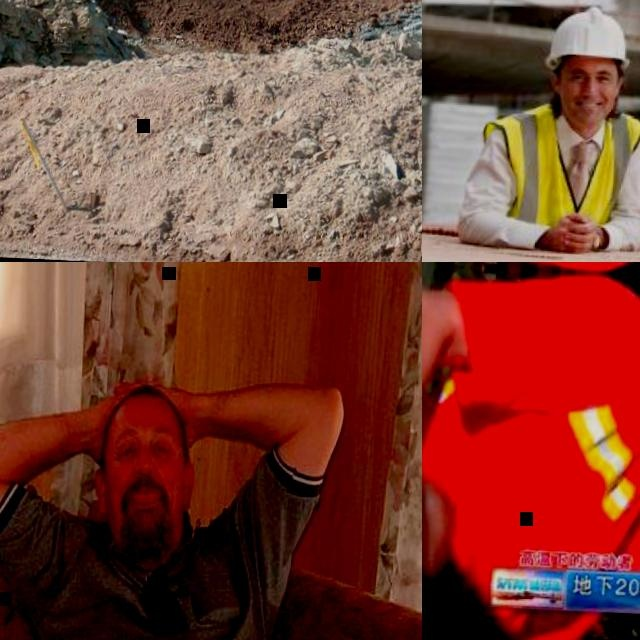Hardhat: (547, 4, 634, 74)
NO-Hardhat: (106, 385, 183, 435)
NO-Mask: (96, 468, 195, 554), (567, 96, 615, 129)
NO-Safety Vest: (32, 516, 290, 640)
Person: (0, 364, 342, 640), (422, 264, 640, 630), (461, 2, 640, 259)
Safety Vest: (422, 354, 640, 620), (477, 101, 640, 233)
